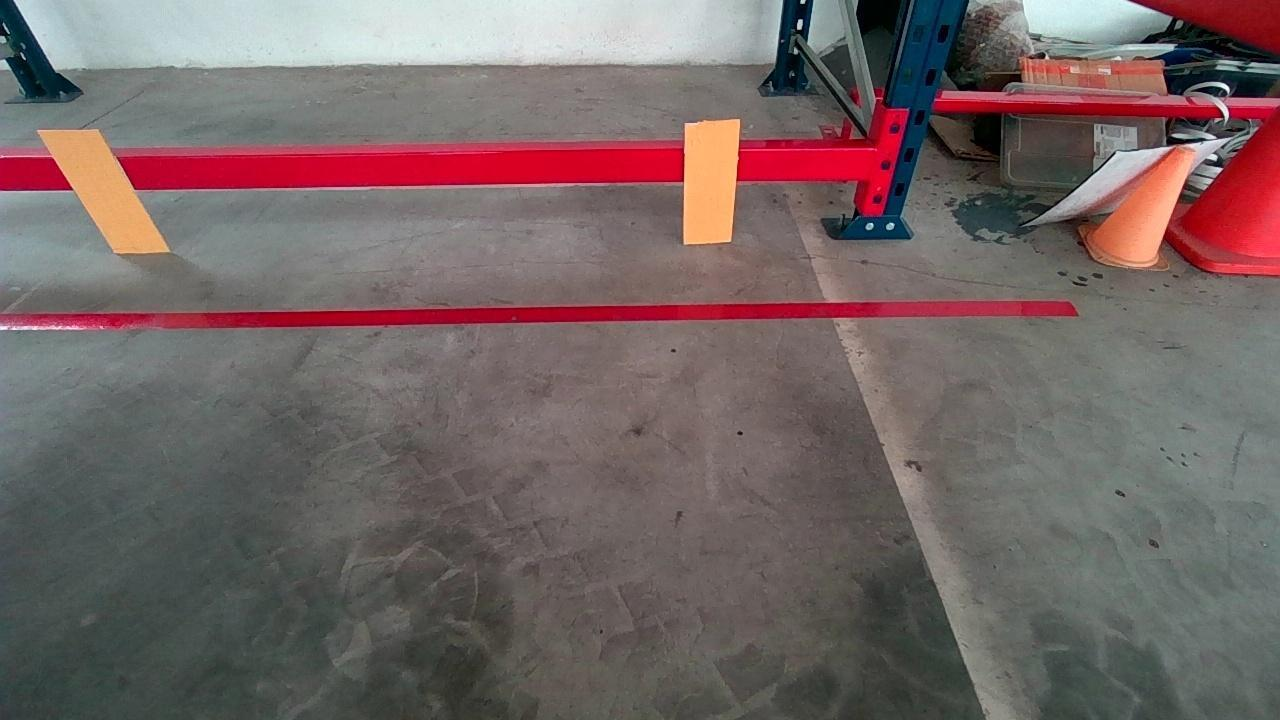h_rack: (5, 147, 879, 194)
orange_strip: (40, 130, 168, 250), (683, 120, 739, 243)
red_line: (0, 298, 1080, 329)
